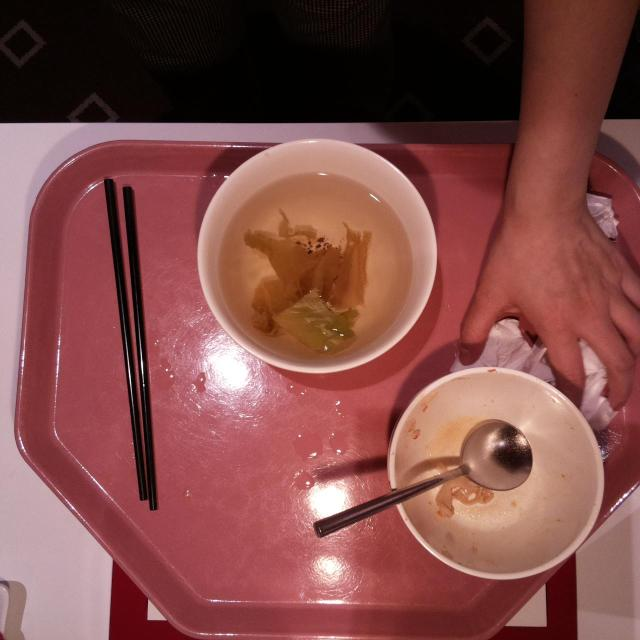Vegetable: (280, 296, 358, 350)
